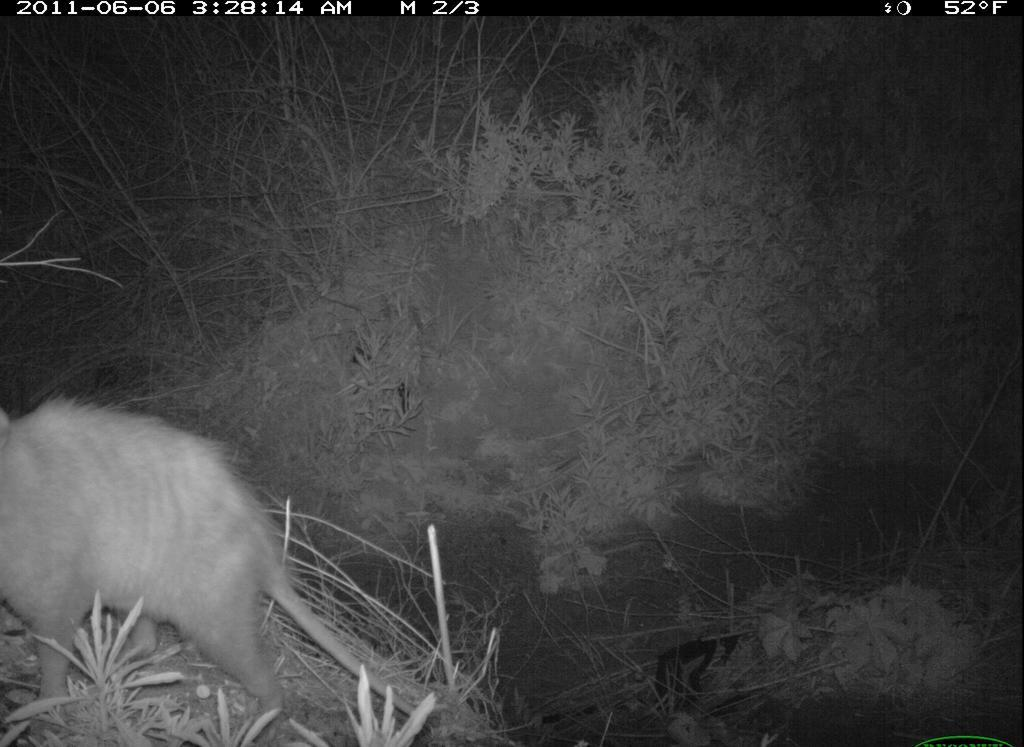opossum: (3, 391, 440, 743)
